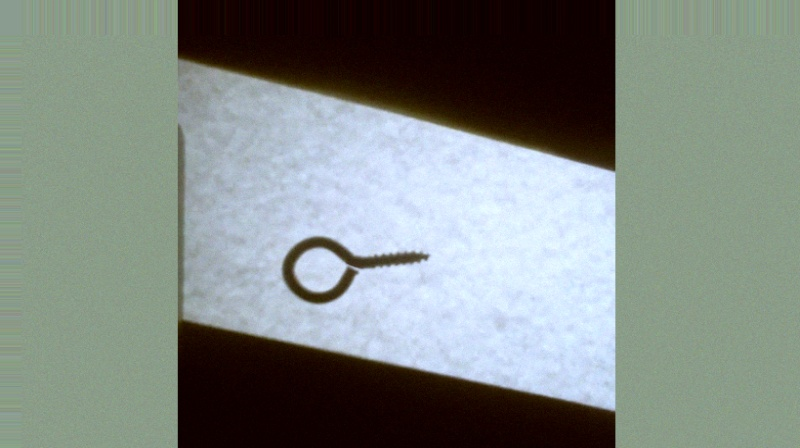O001: (279, 232, 433, 306)
